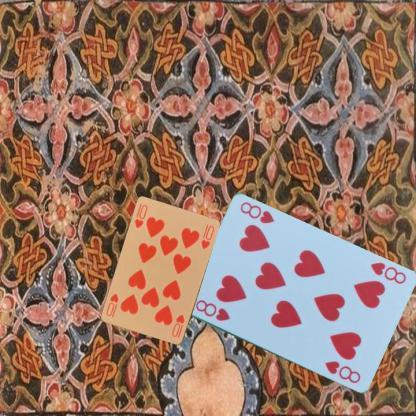10h: (169, 312, 186, 340), (132, 202, 149, 230)
8h: (367, 260, 408, 286), (193, 296, 231, 322)
